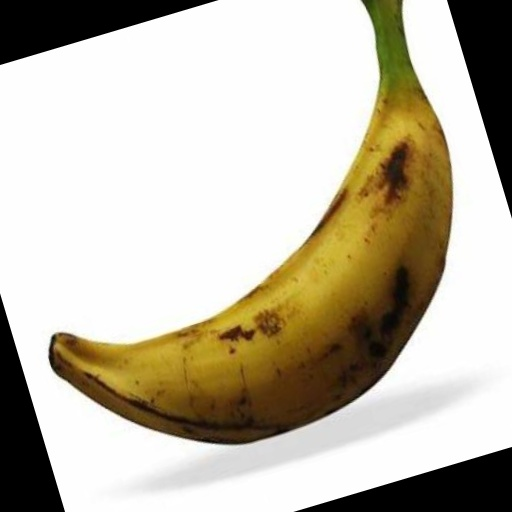fruit: (361, 0, 442, 80)
